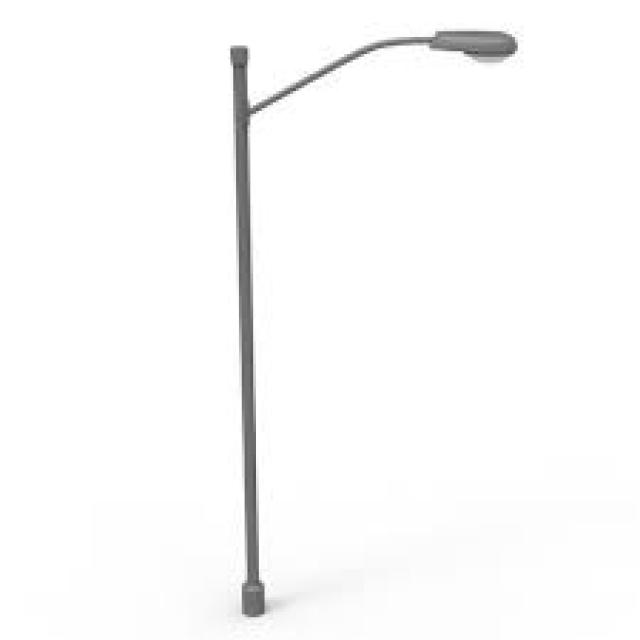Street Light: (228, 28, 518, 618)
